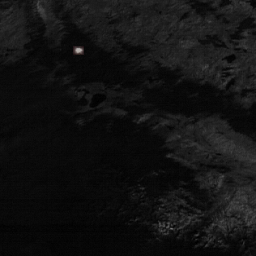Target: (73, 47, 83, 54)
